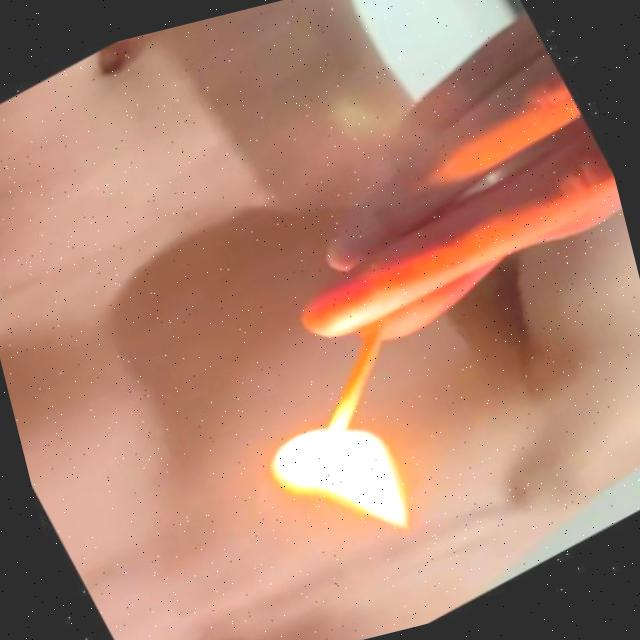fire: (252, 390, 443, 594)
